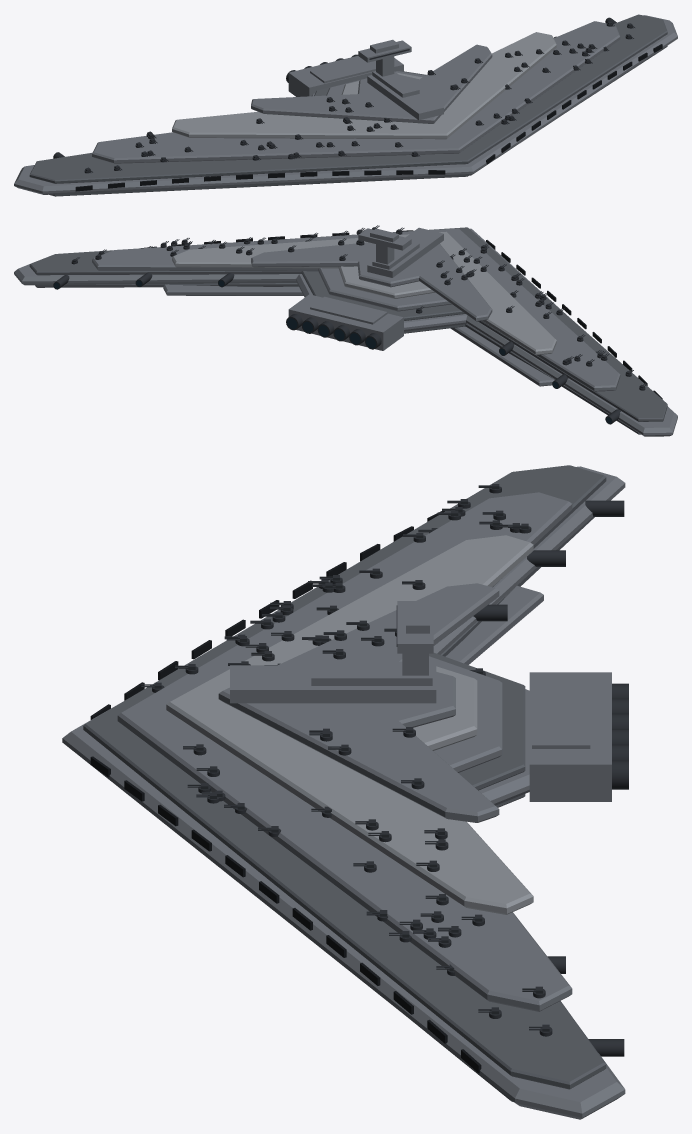
File: dread_step08_hangars_batteries.glb
3 views of the same model, one above another, from view 1: azimuth 30°, elevation 25°; view 2: azimuth 150°, elevation 25°; view 3: azimuth 270°, elevation 25° (orthographic). The views are drawn at different scales.
Parts seen in each view (by area): view 1: deck_tier_1, armour_dorsal, deck_tier_2, wing_core, deck_tier_3, spine_bridge, turbolaser_batteries, engine_block, hangar_bays, armour_ventral; view 2: deck_tier_1, armour_dorsal, deck_tier_2, wing_core, deck_tier_3, engine_block, ventral_tier, spine_bridge, turbolaser_batteries, engine_nozzles, armour_ventral, hangar_bays (+1 smaller); view 3: deck_tier_1, armour_dorsal, deck_tier_2, deck_tier_3, wing_core, engine_block, spine_bridge, turbolaser_batteries, hangar_bays, engine_nozzles, ventral_tier.
Part boxes in pixels (x1=…): deck_tier_1: x1=92, y1=21, x2=620, y2=163; armour_dorsal: x1=29, y1=14, x2=667, y2=183; deck_tier_2: x1=172, y1=32, x2=556, y2=139; wing_core: x1=14, y1=15, x2=677, y2=194; deck_tier_3: x1=251, y1=44, x2=492, y2=123; spine_bridge: x1=358, y1=39, x2=443, y2=120; turbolaser_batteries: x1=84, y1=21, x2=634, y2=173; engine_block: x1=288, y1=56, x2=403, y2=96; hangar_bays: x1=75, y1=44, x2=662, y2=191; armour_ventral: x1=49, y1=46, x2=667, y2=196; deck_tier_1: x1=92, y1=228, x2=620, y2=391; armour_dorsal: x1=29, y1=227, x2=667, y2=421; deck_tier_2: x1=172, y1=231, x2=556, y2=354; wing_core: x1=14, y1=228, x2=677, y2=436; deck_tier_3: x1=251, y1=242, x2=492, y2=321; engine_block: x1=288, y1=294, x2=403, y2=350; ventral_tier: x1=163, y1=284, x2=554, y2=386; spine_bridge: x1=358, y1=227, x2=443, y2=277; turbolaser_batteries: x1=71, y1=225, x2=647, y2=390; engine_nozzles: x1=53, y1=272, x2=620, y2=424; armour_ventral: x1=35, y1=283, x2=640, y2=434; hangar_bays: x1=141, y1=230, x2=662, y2=399; deck_tier_1: x1=117, y1=492, x2=572, y2=1011; armour_dorsal: x1=83, y1=465, x2=606, y2=1089; deck_tier_2: x1=166, y1=535, x2=533, y2=914; deck_tier_3: x1=218, y1=583, x2=499, y2=822; wing_core: x1=62, y1=466, x2=625, y2=1119; engine_block: x1=529, y1=672, x2=611, y2=801; spine_bridge: x1=230, y1=601, x2=436, y2=703; turbolaser_batteries: x1=141, y1=484, x2=552, y2=1036; hangar_bays: x1=90, y1=511, x2=481, y2=1073; engine_nozzles: x1=473, y1=500, x2=628, y2=1056; ventral_tier: x1=445, y1=586, x2=543, y2=664.
Size of the model in its own units: 62.7 by 8.73 by 23.37.
